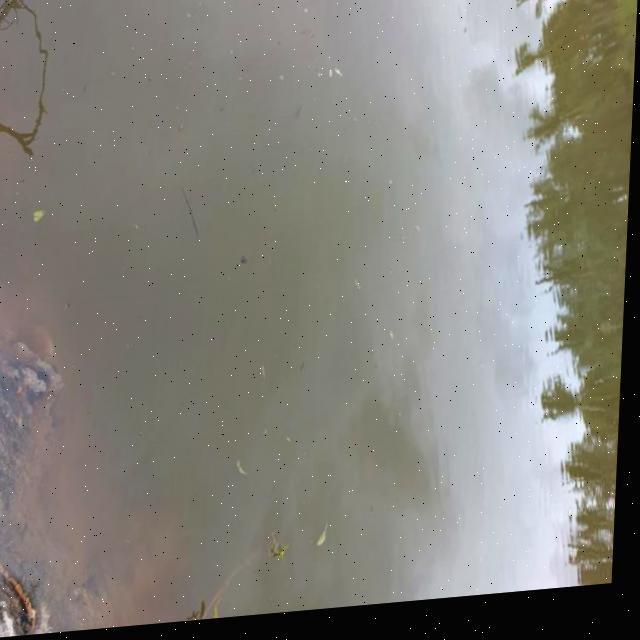water: (234, 0, 639, 622)
